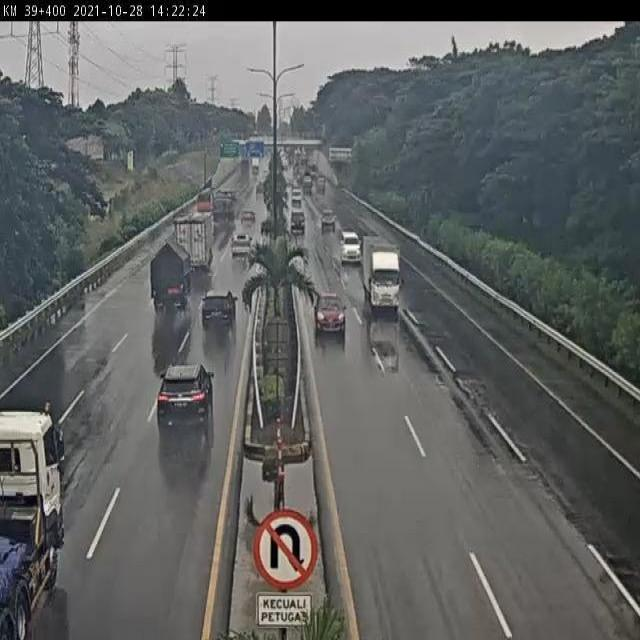car: (202, 286, 237, 334), (337, 229, 361, 264), (229, 229, 253, 259), (289, 208, 307, 232), (239, 203, 257, 225)
small truck: (359, 239, 402, 313)
truck-l-: (170, 213, 214, 279)
truck-m-: (149, 243, 196, 317)
